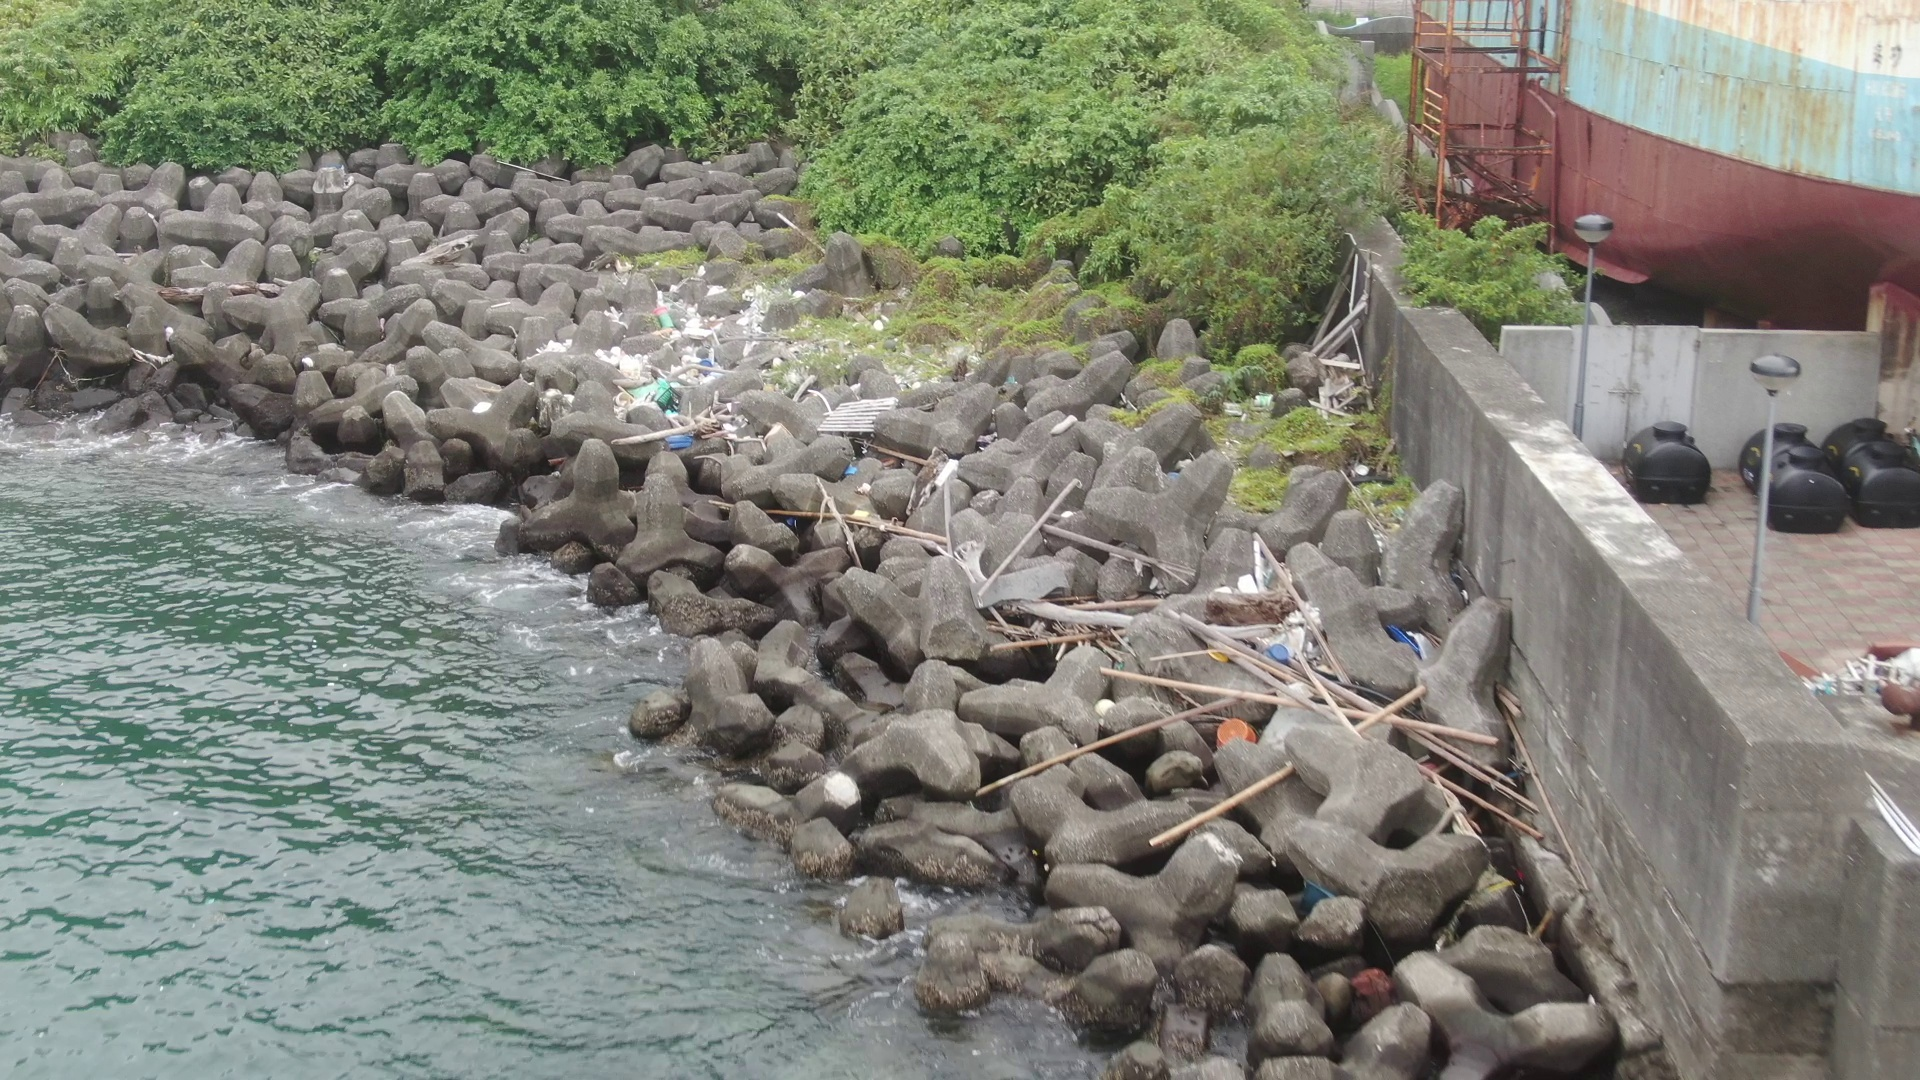garbage: (1159, 520, 1545, 855), (787, 452, 1218, 651), (512, 256, 945, 452), (1797, 626, 1916, 704), (820, 771, 873, 822)
